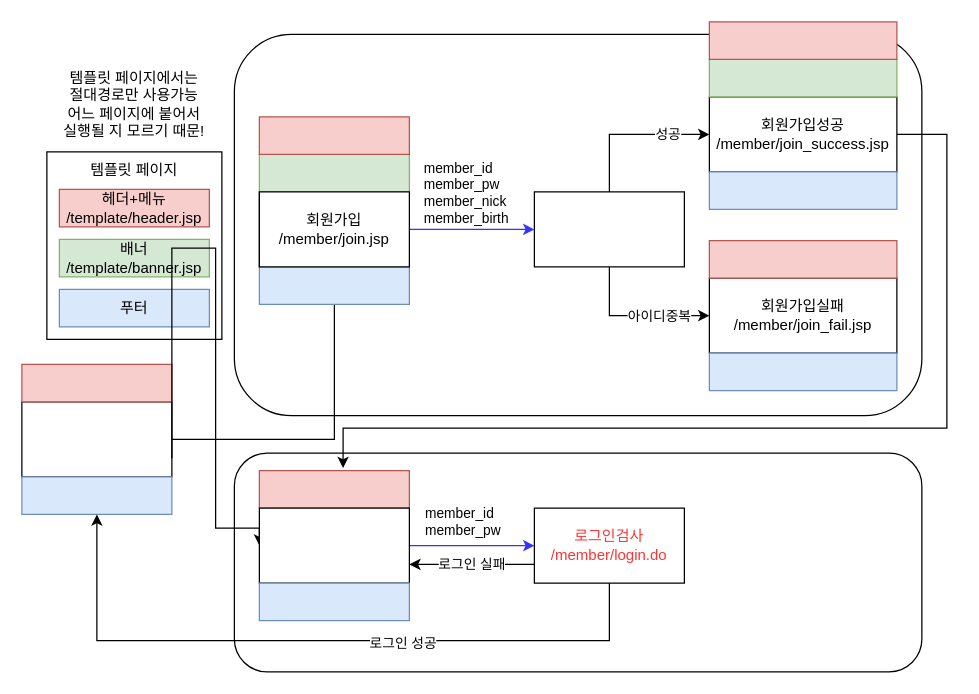
Image size: 979x694. Some labels were removed from this diagram. The shapes that lost their labels are listed below. From the top down, each one's centre as x and y in pixels, then its label:
At point 608,229: "회원가입처리 /member/join.do".
At point 96,439: "메인페이지 /index.jsp".
At point 333,545: "로그인입력 /member/login.jsp".
